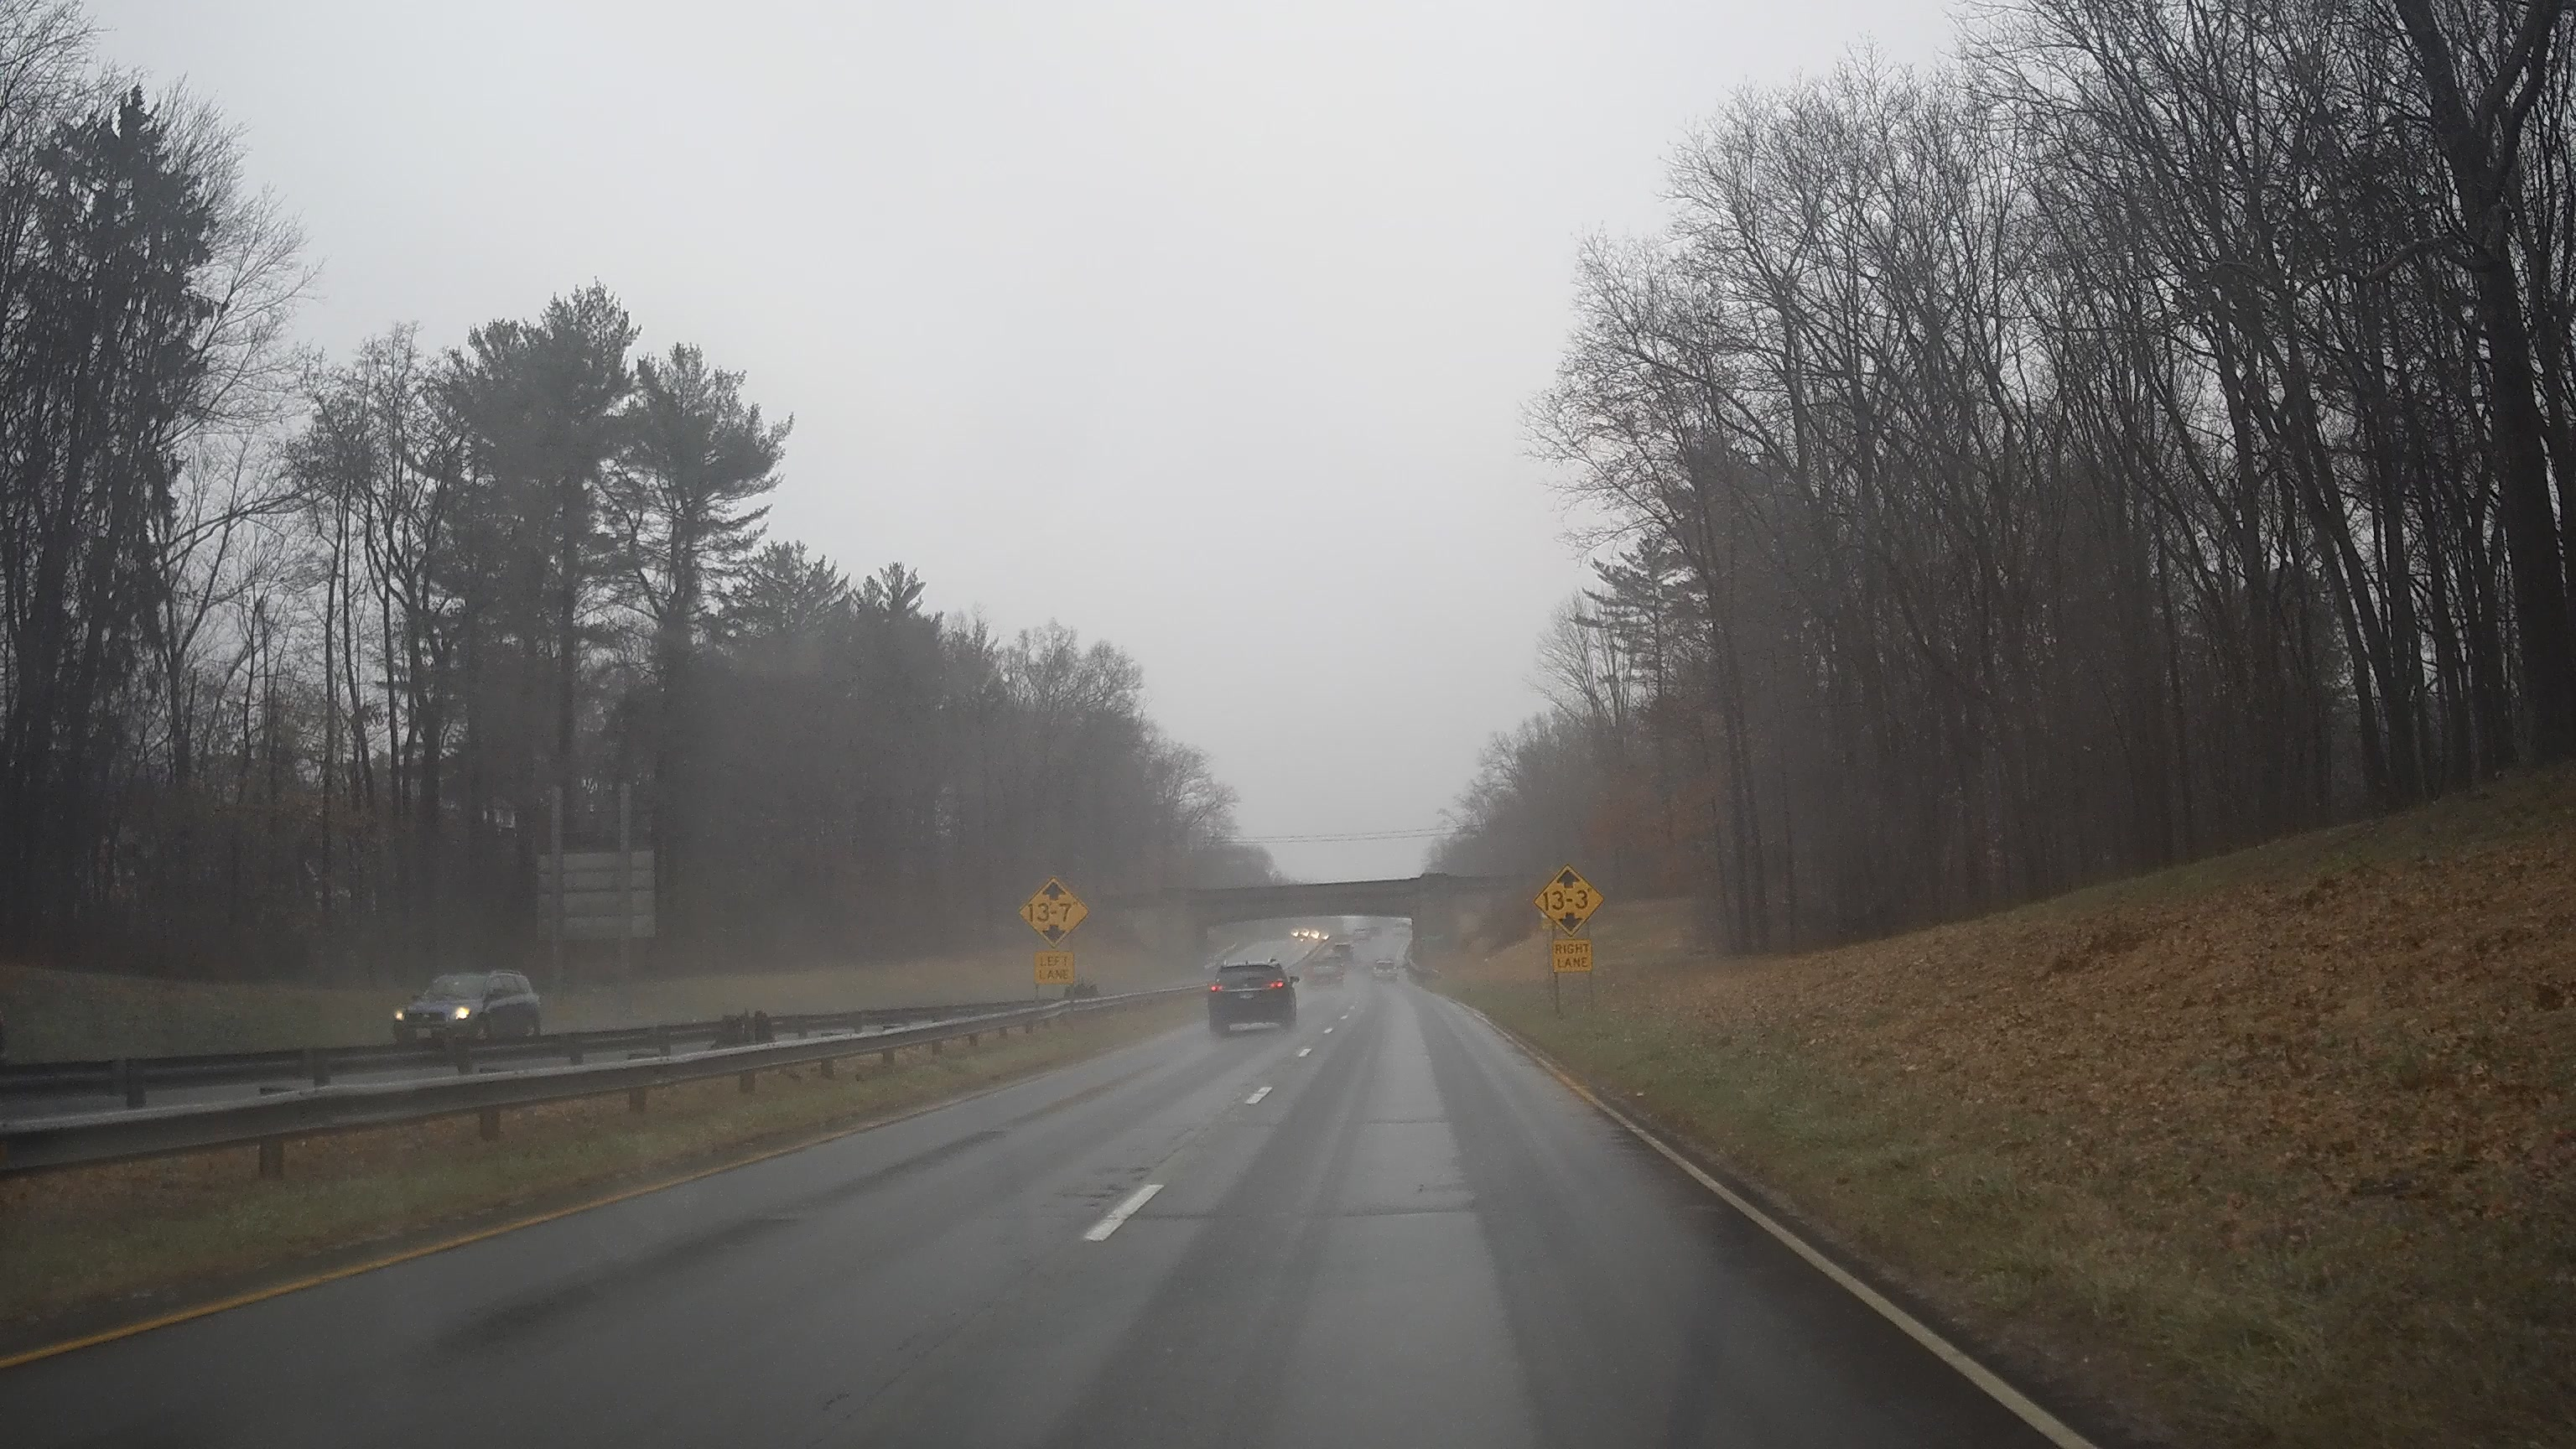low-clearance-sign: (1017, 876, 1090, 950), (1532, 863, 1606, 936)
